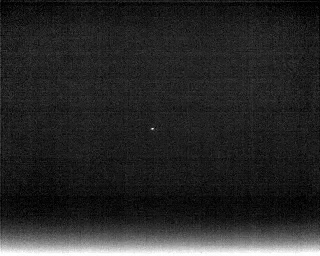AIRPLANE: (149, 124, 156, 133)
